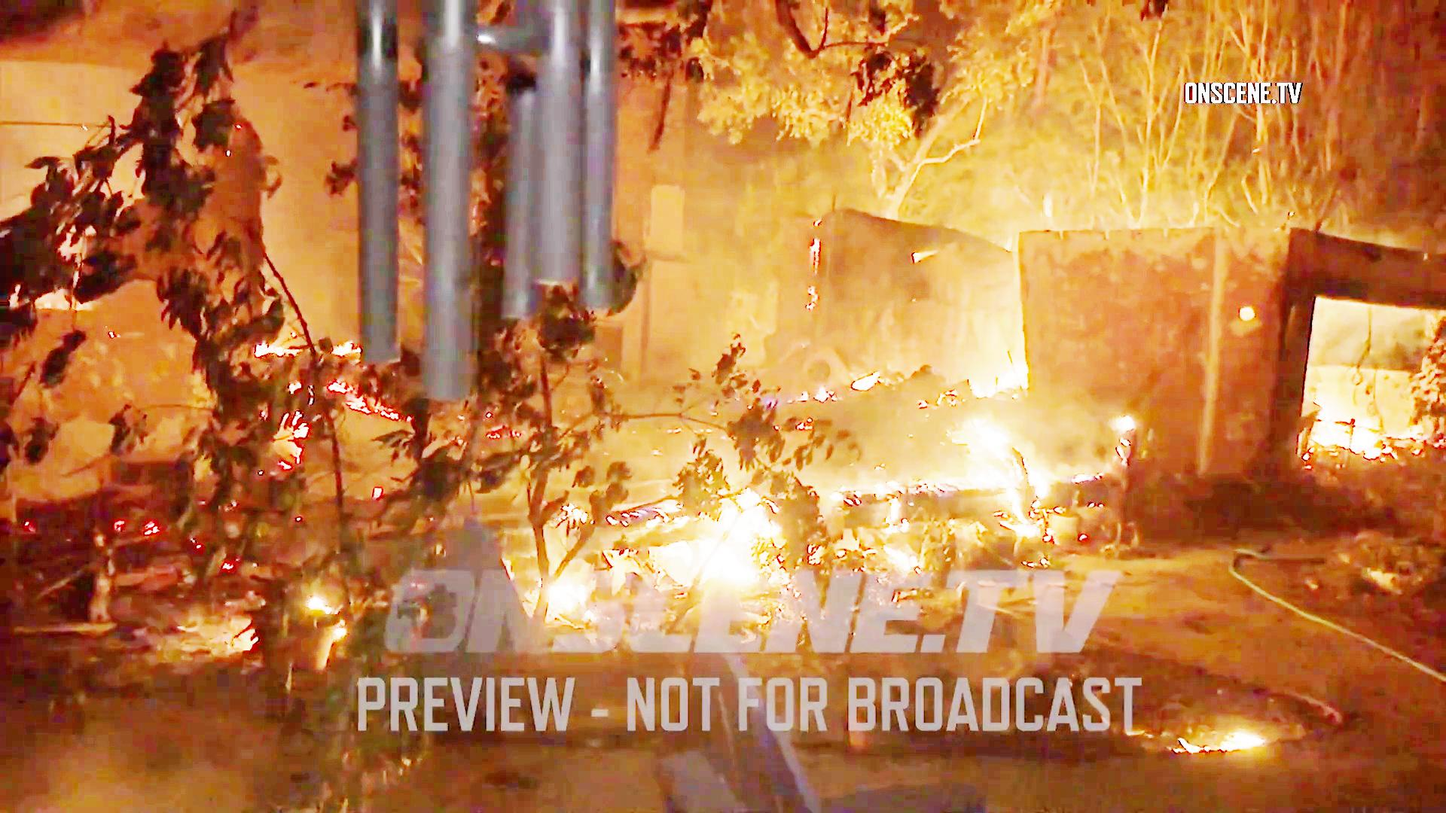fire: (659, 463, 806, 583)
